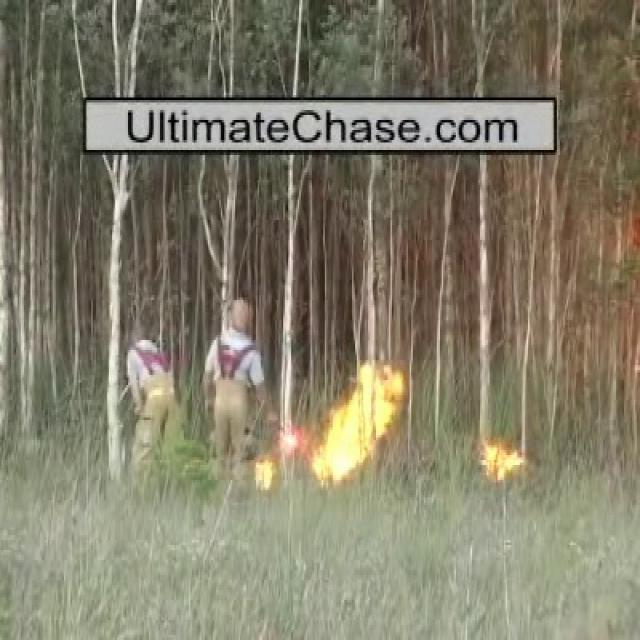Fire: (316, 363, 399, 482)
